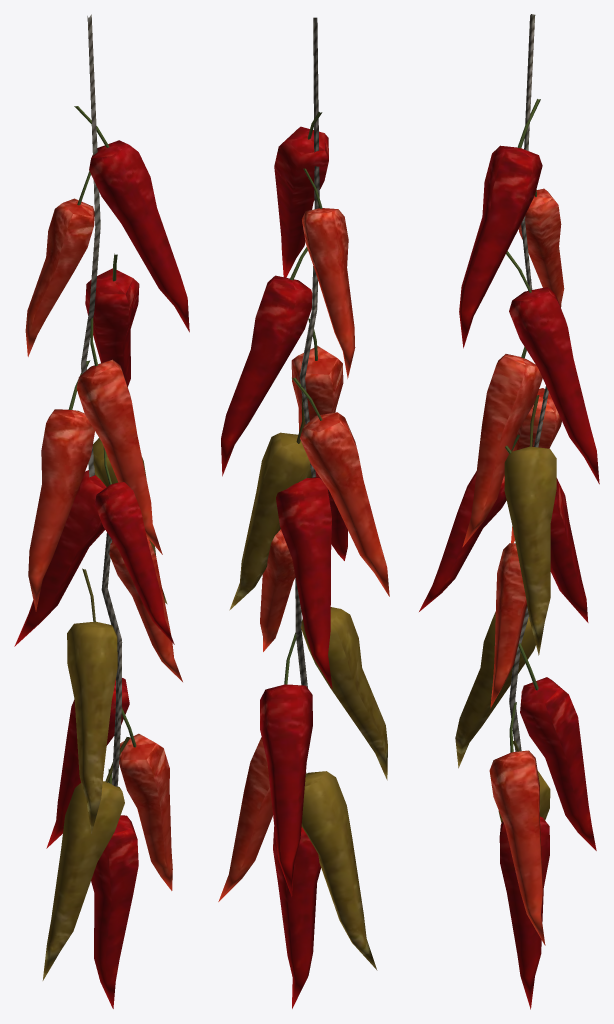
Rendered from Chilly_Bunch.glb.
3 views of the same model, side by side, from view 1: azimuth 30°, elevation 25°; view 2: azimuth 150°, elevation 25°; view 3: azimuth 270°, elevation 25° (orthographic).
Visible parts, largest first — view 1: SM_Chilly_Bunch; view 2: SM_Chilly_Bunch; view 3: SM_Chilly_Bunch.
Boxes of the visible parts, x1,y1,x2,y2 form: SM_Chilly_Bunch: (14,14,189,1008); SM_Chilly_Bunch: (218,17,389,1008); SM_Chilly_Bunch: (419,14,599,1009).
Bounding box in the file's own units: 0.074 × 0.4528 × 0.0755.
1 material, 1 textured.
